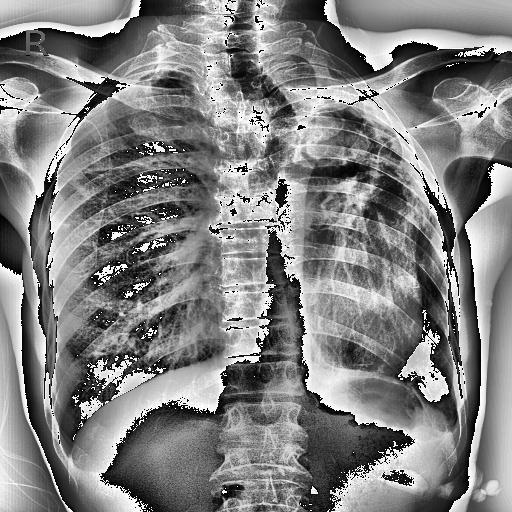1- Atelectasis: (302, 96, 436, 264), (273, 54, 393, 163)
10- Pleural effusion: (438, 410, 464, 446)
11- Pleural thickening: (258, 51, 394, 131), (287, 52, 395, 125), (438, 410, 464, 446)
13- Pulmonary fibrosis: (302, 96, 436, 264), (288, 102, 444, 245), (387, 150, 444, 226)
